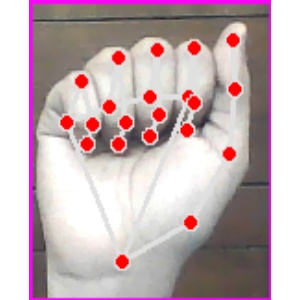A: (30, 2, 271, 300)
